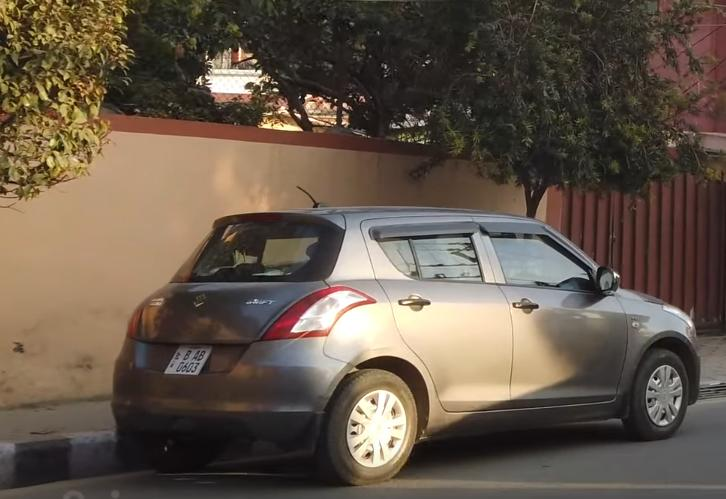car: (110, 193, 704, 479)
